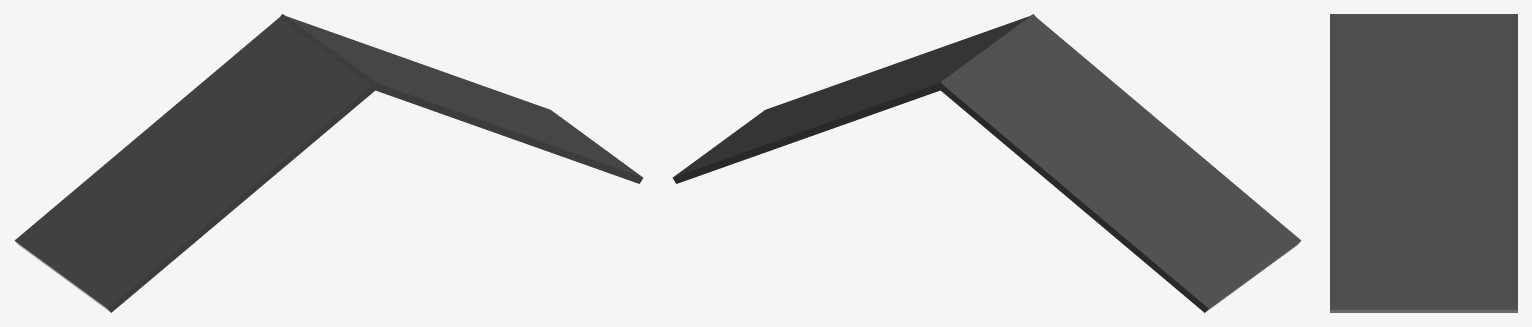
Rendered from Roof3_C3_01.fbx.
The picture shows the model from 3 angles, left to right: view 1: azimuth 30°, elevation 25°; view 2: azimuth 150°, elevation 25°; view 3: azimuth 270°, elevation 25°; orthographic projection.
Parts seen in each view (by area): view 1: Roof3_C3_01; view 2: Roof3_C3_01; view 3: Roof3_C3_01.
Boxes of the visible parts, <box> form: Roof3_C3_01: <box>14,14,643,312</box>; Roof3_C3_01: <box>672,14,1301,312</box>; Roof3_C3_01: <box>1330,14,1517,312</box>.
Size of the model in its own units: 833 by 247 by 250.
